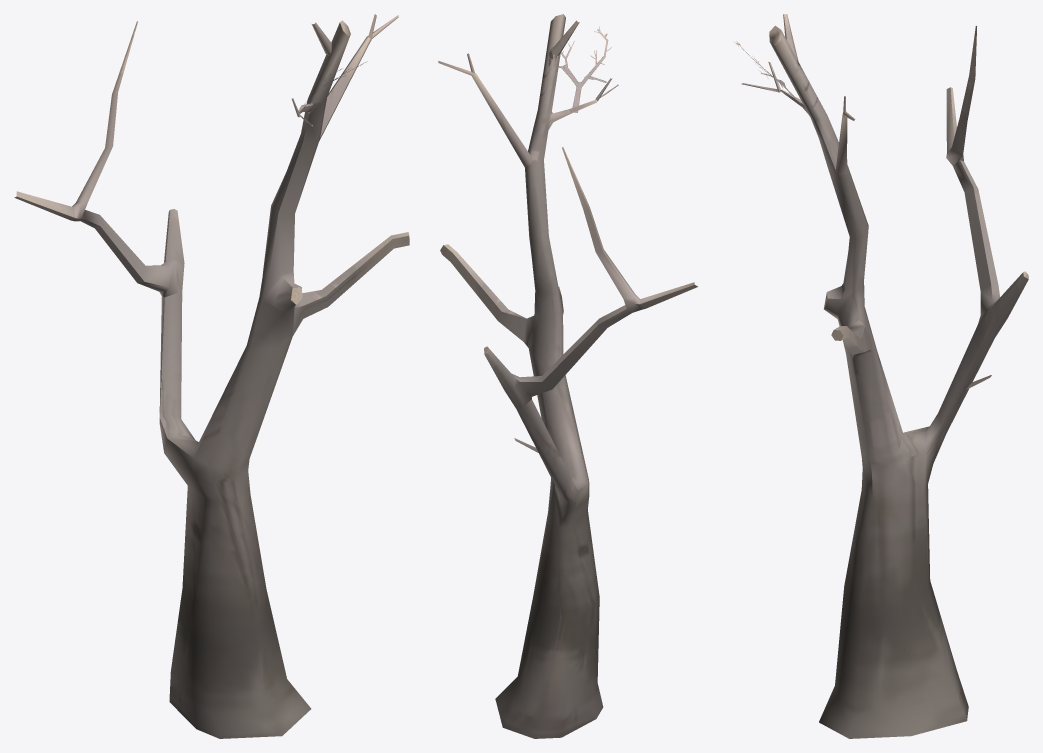
The picture shows the model from 3 angles, left to right: view 1: azimuth 30°, elevation 25°; view 2: azimuth 150°, elevation 25°; view 3: azimuth 270°, elevation 25°; orthographic projection. The views are drawn at different scales.
Parts seen in each view (by area): view 1: body0_model0_lod0_mesh0; view 2: body0_model0_lod0_mesh0; view 3: body0_model0_lod0_mesh0.
Part boxes in pixels (x1=…): body0_model0_lod0_mesh0: x1=14, y1=14, x2=409, y2=738; body0_model0_lod0_mesh0: x1=438, y1=14, x2=697, y2=738; body0_model0_lod0_mesh0: x1=733, y1=14, x2=1028, y2=738.
Size of the model in its own units: 11.91 by 24.24 by 9.22.
1 material, 1 textured.
